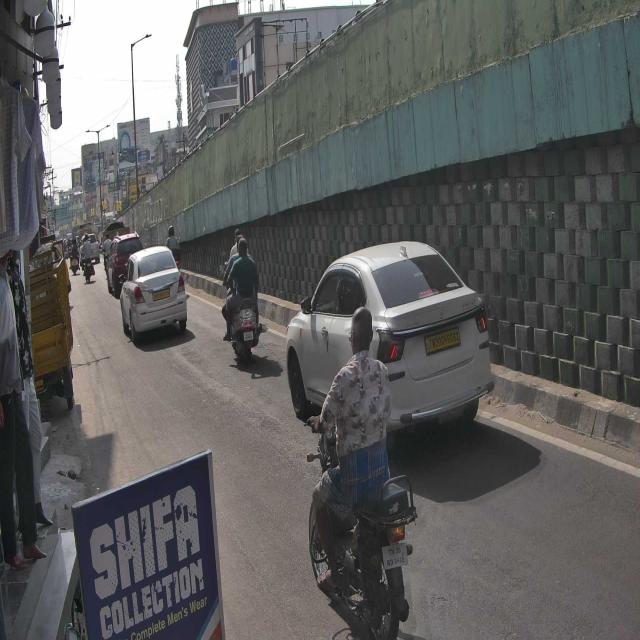single_rider: (306, 306, 418, 640)
